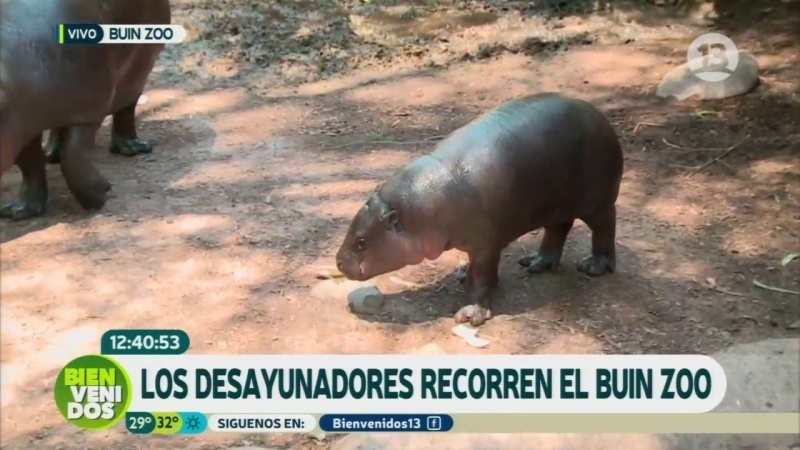hipopotamo: (326, 89, 651, 335), (1, 1, 190, 229)
